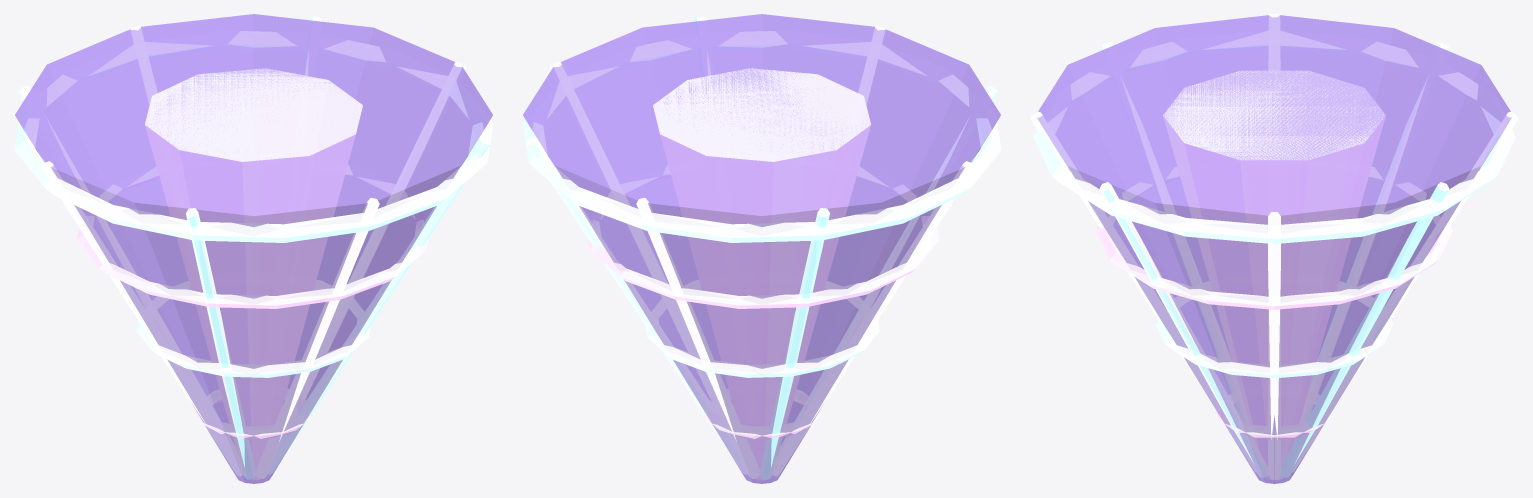
3 renders of one model, left to right at view 1: azimuth 30°, elevation 25°; view 2: azimuth 150°, elevation 25°; view 3: azimuth 270°, elevation 25°, orthographic.
Parts seen in each view (by area): view 1: ConeEnergyShell, ConeBrightCore, ConeReadabilityRing_3, ConeReadabilityRing_2, ConeEdgeRail_4, ConeReadabilityRing_1, ConeEdgeRail_0, ConeEdgeRail_7, ConeEdgeRail_6, ConeEdgeRail_5, ConeEdgeRail_3, ConeReadabilityRing_0 (+2 smaller); view 2: ConeEnergyShell, ConeBrightCore, ConeReadabilityRing_3, ConeReadabilityRing_2, ConeEdgeRail_4, ConeReadabilityRing_1, ConeEdgeRail_0, ConeEdgeRail_1, ConeEdgeRail_2, ConeEdgeRail_3, ConeEdgeRail_5, ConeReadabilityRing_0 (+2 smaller); view 3: ConeEnergyShell, ConeBrightCore, ConeReadabilityRing_3, ConeReadabilityRing_2, ConeEdgeRail_3, ConeEdgeRail_5, ConeReadabilityRing_1, ConeEdgeRail_1, ConeEdgeRail_7, ConeEdgeRail_0, ConeEdgeRail_2, ConeEdgeRail_6 (+2 smaller).
Part boxes in pixels (<box>): ConeEnergyShell: <box>15,14,492,483</box>; ConeBrightCore: <box>145,68,362,480</box>; ConeReadabilityRing_3: <box>14,31,493,242</box>; ConeReadabilityRing_2: <box>77,165,428,308</box>; ConeEdgeRail_4: <box>41,161,243,476</box>; ConeReadabilityRing_1: <box>136,280,370,377</box>; ConeEdgeRail_0: <box>290,62,466,419</box>; ConeEdgeRail_7: <box>268,137,490,474</box>; ConeEdgeRail_6: <box>256,198,379,478</box>; ConeEdgeRail_5: <box>186,208,255,479</box>; ConeEdgeRail_3: <box>17,86,236,451</box>; ConeReadabilityRing_0: <box>195,389,311,439</box>; ConeEnergyShell: <box>523,14,1000,483</box>; ConeBrightCore: <box>653,68,870,480</box>; ConeReadabilityRing_3: <box>522,31,1001,242</box>; ConeReadabilityRing_2: <box>587,165,938,308</box>; ConeEdgeRail_4: <box>772,161,974,476</box>; ConeReadabilityRing_1: <box>645,280,879,377</box>; ConeEdgeRail_0: <box>549,62,725,419</box>; ConeEdgeRail_1: <box>525,137,747,474</box>; ConeEdgeRail_2: <box>636,198,759,478</box>; ConeEdgeRail_3: <box>760,208,829,479</box>; ConeEdgeRail_5: <box>779,86,998,451</box>; ConeReadabilityRing_0: <box>704,389,820,439</box>; ConeEnergyShell: <box>1037,15,1511,483</box>; ConeBrightCore: <box>1163,70,1385,479</box>; ConeReadabilityRing_3: <box>1033,31,1515,243</box>; ConeReadabilityRing_2: <box>1096,167,1452,309</box>; ConeEdgeRail_3: <box>1294,42,1449,442</box>; ConeEdgeRail_5: <box>1099,42,1254,442</box>; ConeReadabilityRing_1: <box>1156,281,1392,378</box>; ConeEdgeRail_1: <box>1281,182,1449,477</box>; ConeEdgeRail_7: <box>1099,182,1267,477</box>; ConeEdgeRail_0: <box>1268,212,1280,479</box>; ConeEdgeRail_2: <box>1292,111,1518,472</box>; ConeEdgeRail_6: <box>1030,111,1256,472</box>.
Bounding box in the file's own units: 1.18 × 0.9677 × 1.18.
